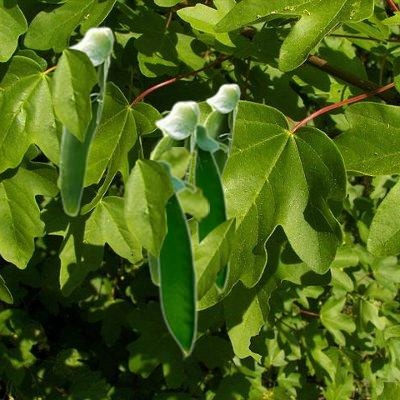pea: (58, 26, 114, 216), (146, 100, 200, 286), (153, 158, 197, 360), (192, 122, 229, 296), (203, 83, 240, 179)
